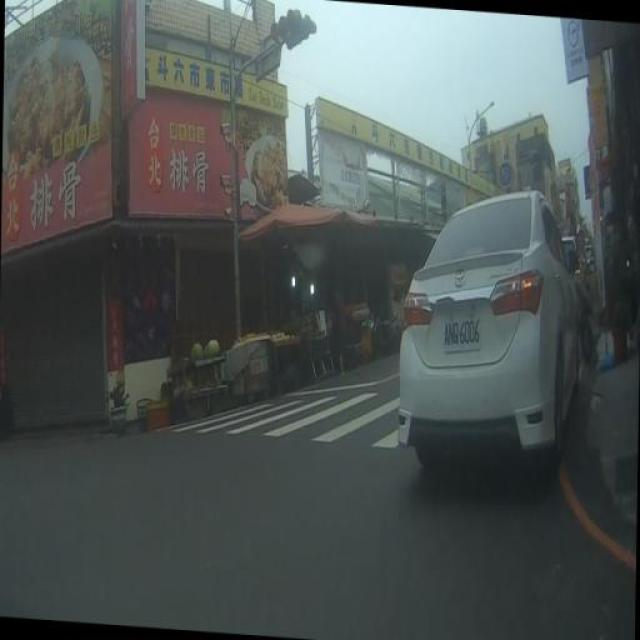illegalparking: (383, 192, 587, 505)
